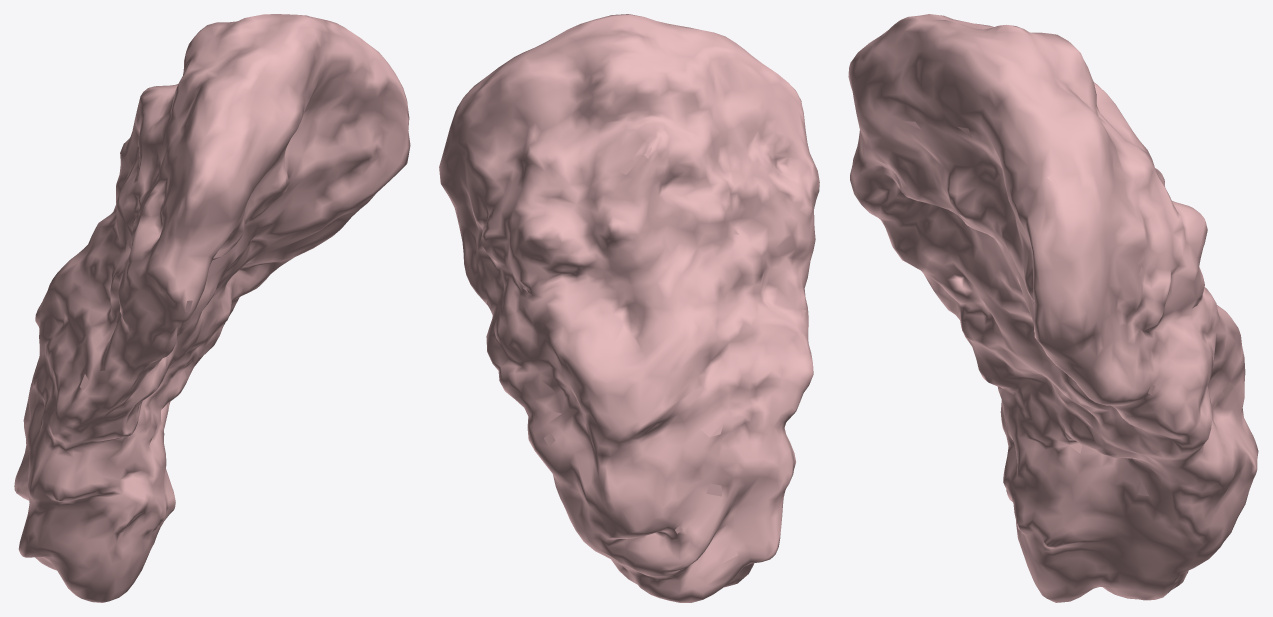
The model's file is 3d-vh-f-palatine-tonsil-r-80.glb.
3 views of the same model, side by side, from view 1: azimuth 30°, elevation 25°; view 2: azimuth 150°, elevation 25°; view 3: azimuth 270°, elevation 25° (orthographic). The views are drawn at different scales.
Visible parts, largest first — view 1: VH_F_palatine_tonsil_R; view 2: VH_F_palatine_tonsil_R; view 3: VH_F_palatine_tonsil_R.
Boxes of the visible parts, left/top/right/bottom form: VH_F_palatine_tonsil_R: left=14, top=14, right=410, bottom=602; VH_F_palatine_tonsil_R: left=439, top=14, right=819, bottom=602; VH_F_palatine_tonsil_R: left=848, top=14, right=1258, bottom=602.
Bounding box in the file's own units: 0.0168 × 0.0239 × 0.0139.
